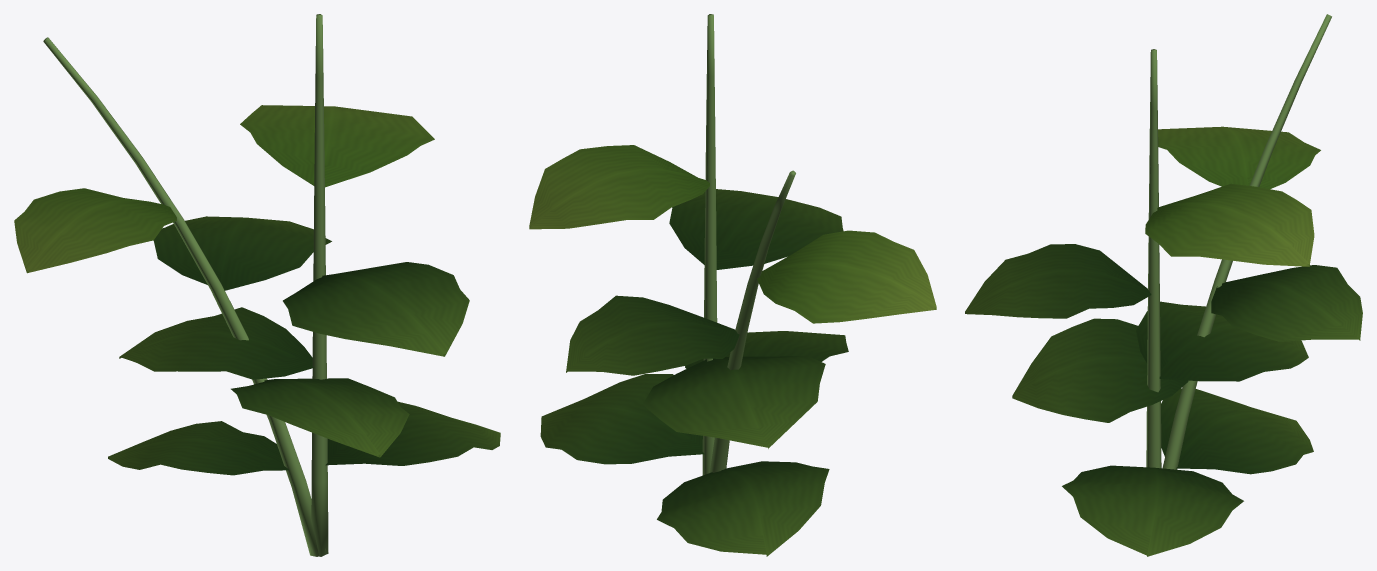
The model's file is hydrangea-05-lod.glb.
3 views of the same model, side by side, from view 1: azimuth 30°, elevation 25°; view 2: azimuth 150°, elevation 25°; view 3: azimuth 270°, elevation 25° (orthographic). The views are drawn at different scales.
Visible parts, largest first — view 1: hydrangea_stage_05_leaf_veins.009, hydrangea_stage_05_young_leaf.009, hydrangea_stage_05_stem_fibres.009; view 2: hydrangea_stage_05_leaf_veins.009, hydrangea_stage_05_young_leaf.009, hydrangea_stage_05_stem_fibres.009; view 3: hydrangea_stage_05_leaf_veins.009, hydrangea_stage_05_young_leaf.009, hydrangea_stage_05_stem_fibres.009.
Boxes of the visible parts, x1=… form: hydrangea_stage_05_leaf_veins.009: x1=108, y1=216, x2=500, y2=475; hydrangea_stage_05_young_leaf.009: x1=14, y1=105, x2=434, y2=273; hydrangea_stage_05_stem_fibres.009: x1=43, y1=14, x2=328, y2=556; hydrangea_stage_05_leaf_veins.009: x1=540, y1=189, x2=848, y2=556; hydrangea_stage_05_young_leaf.009: x1=529, y1=145, x2=936, y2=323; hydrangea_stage_05_stem_fibres.009: x1=702, y1=14, x2=795, y2=475; hydrangea_stage_05_leaf_veins.009: x1=965, y1=244, x2=1362, y2=556; hydrangea_stage_05_young_leaf.009: x1=1145, y1=126, x2=1320, y2=266; hydrangea_stage_05_stem_fibres.009: x1=1146, y1=14, x2=1331, y2=469.
Size of the model in its own units: 0.2177 by 0.2553 by 0.1839.
Materials: 3 (2 with a texture image).
